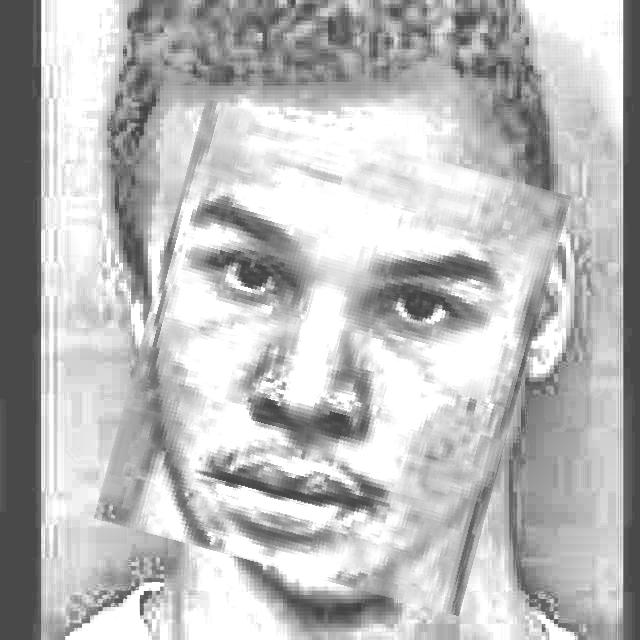sad: (119, 119, 547, 596)
